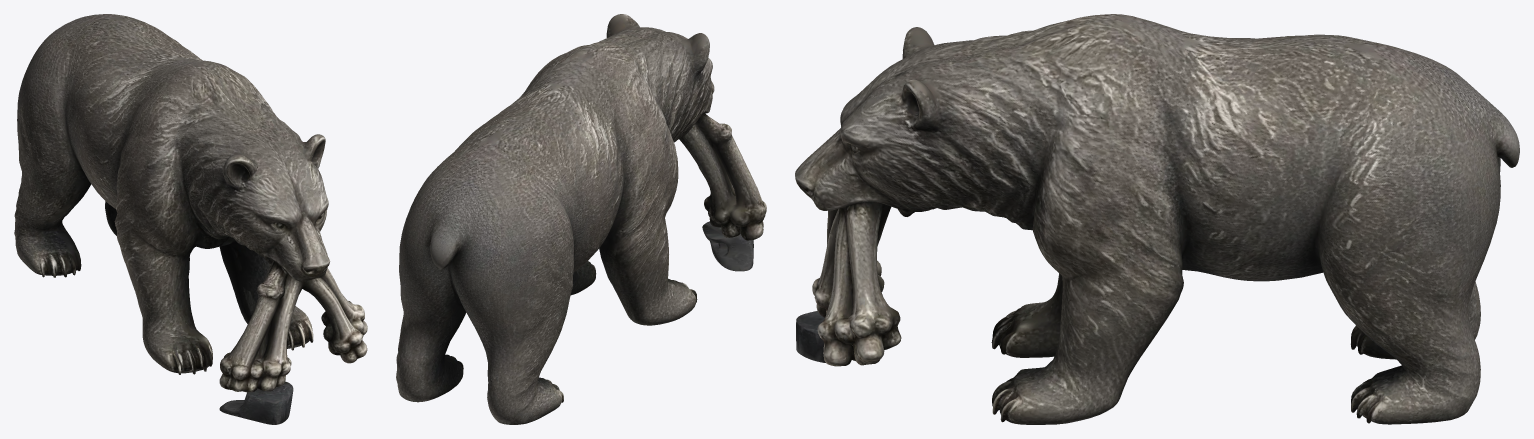
Rendered from bear.glb.
3 views of the same model, side by side, from view 1: azimuth 30°, elevation 25°; view 2: azimuth 150°, elevation 25°; view 3: azimuth 270°, elevation 25° (orthographic). The views are drawn at different scales.
Visible parts, largest first — view 1: node_0; view 2: node_0; view 3: node_0.
Part boxes in pixels (box(x1,y1,x2,y2)): node_0: box(14, 14, 367, 424); node_0: box(396, 14, 766, 424); node_0: box(795, 14, 1519, 424).
Size of the model in its own units: 0.3487 by 0.5705 by 1.04.
Materials: 1 (1 with a texture image).
